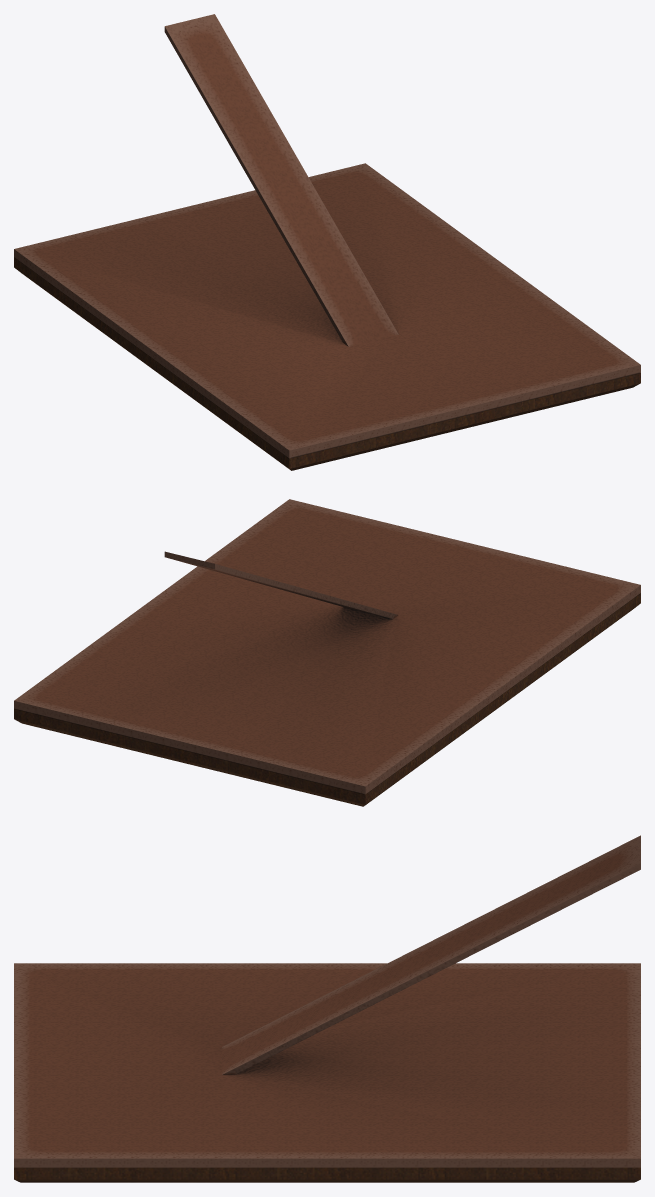
File: frame.obj
3 renders of one model, top to bottom at view 1: azimuth 30°, elevation 25°; view 2: azimuth 150°, elevation 25°; view 3: azimuth 270°, elevation 25°, orthographic. The views are drawn at different scales.
Parts seen in each view (by area): view 1: noga, frame; view 2: noga, frame; view 3: noga, frame.
Boxes of the visible parts, x1=… form: noga: x1=14, y1=14, x2=640, y2=458; frame: x1=14, y1=257, x2=640, y2=470; noga: x1=14, y1=499, x2=640, y2=794; frame: x1=14, y1=593, x2=640, y2=806; noga: x1=14, y1=835, x2=640, y2=1167; frame: x1=14, y1=1167, x2=640, y2=1182.
Bounding box in the file's own units: 0.14 × 0.0798 × 0.19.
1 material, 1 textured.
